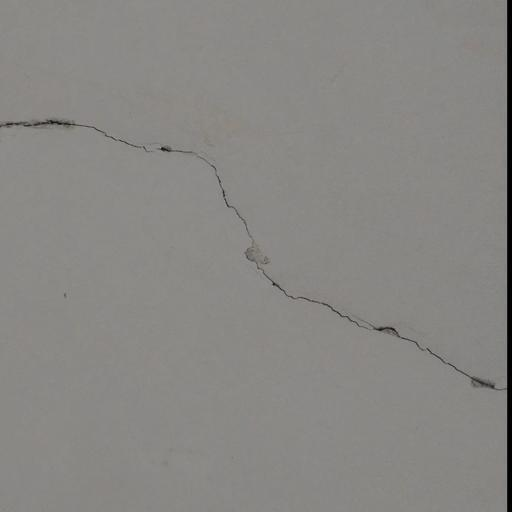minor_crack: (1, 106, 506, 414)
